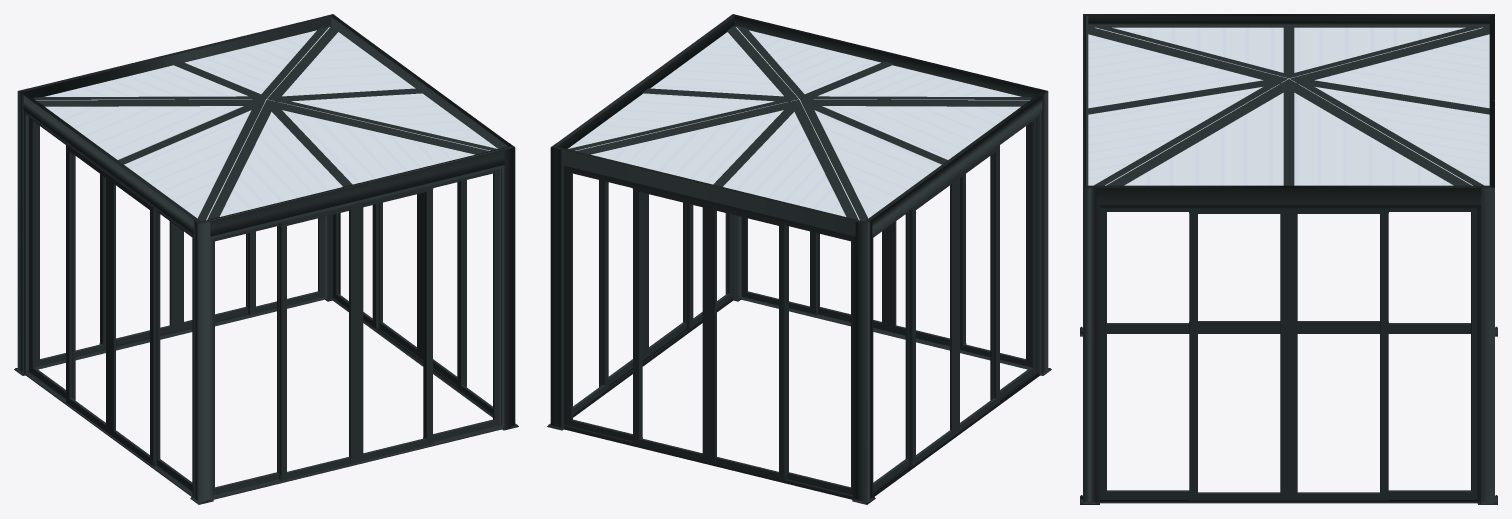
The model's file is 640010_4pans.fbx.
The picture shows the model from 3 angles, left to right: view 1: azimuth 30°, elevation 25°; view 2: azimuth 150°, elevation 25°; view 3: azimuth 270°, elevation 25°; orthographic projection. The views are drawn at different scales.
Visible parts, largest first — view 1: priximbattable_net_abris_de_jardin_640010_jacuzzi_4pans, folha2_3, folha3_3, folha3_4, folha4_3, folha1_4, folha2_4, folha4, folha1_3, folha1_2, folha2_2, folha4_2 (+5 smaller); view 2: priximbattable_net_abris_de_jardin_640010_jacuzzi_4pans, folha3, folha2, folha2_4, folha1, folha4_4, folha3_4, folha1_3, folha4, folha1_2, folha4_2, folha3_2 (+5 smaller); view 3: priximbattable_net_abris_de_jardin_640010_jacuzzi_4pans, folha2_2, folha3_2, folha4_2, folha1_2, folha2_4, folha3_4, folha1_4, folha4_4.
Part boxes in pixels (left/top/right/bottom): priximbattable_net_abris_de_jardin_640010_jacuzzi_4pans: left=14, top=14, right=518, bottom=504; folha2_3: left=279, top=204, right=356, bottom=480; folha3_3: left=357, top=185, right=433, bottom=462; folha3_4: left=109, top=176, right=156, bottom=466; folha4_3: left=423, top=169, right=499, bottom=441; folha1_4: left=29, top=117, right=75, bottom=400; folha2_4: left=66, top=144, right=109, bottom=433; folha4: left=35, top=123, right=105, bottom=366; folha1_3: left=212, top=223, right=279, bottom=495; folha1_2: left=457, top=181, right=492, bottom=414; folha2_2: left=420, top=180, right=466, bottom=386; folha4_2: left=333, top=203, right=379, bottom=329; priximbattable_net_abris_de_jardin_640010_jacuzzi_4pans: left=547, top=14, right=1051, bottom=504; folha3: left=709, top=204, right=786, bottom=480; folha2: left=632, top=185, right=708, bottom=462; folha2_4: left=909, top=176, right=956, bottom=466; folha1: left=566, top=169, right=642, bottom=441; folha4_4: left=990, top=118, right=1036, bottom=400; folha3_4: left=956, top=144, right=999, bottom=433; folha1_3: left=960, top=123, right=1030, bottom=366; folha4: left=786, top=223, right=852, bottom=495; folha1_2: left=686, top=203, right=733, bottom=329; folha4_2: left=573, top=181, right=608, bottom=414; folha3_2: left=599, top=180, right=645, bottom=386; priximbattable_net_abris_de_jardin_640010_jacuzzi_4pans: left=1080, top=14, right=1497, bottom=504; folha2_2: left=1189, top=208, right=1288, bottom=500; folha3_2: left=1289, top=208, right=1388, bottom=500; folha4_2: left=1388, top=205, right=1481, bottom=498; folha1_2: left=1100, top=208, right=1189, bottom=498; folha2_4: left=1297, top=321, right=1388, bottom=328; folha3_4: left=1189, top=321, right=1280, bottom=328; folha1_4: left=1388, top=323, right=1470, bottom=330; folha4_4: left=1107, top=323, right=1189, bottom=330.
Bounding box in the file's own units: 304 × 272 × 304.
1 material, 1 textured.
